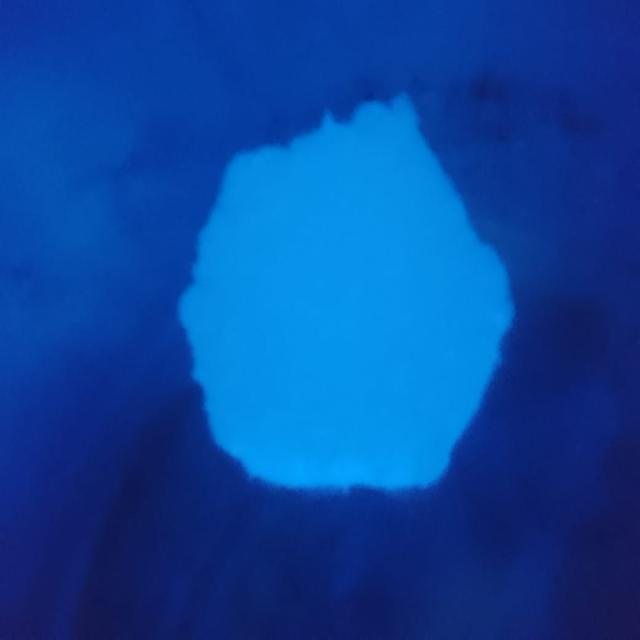thermocoal: (162, 105, 529, 512)
